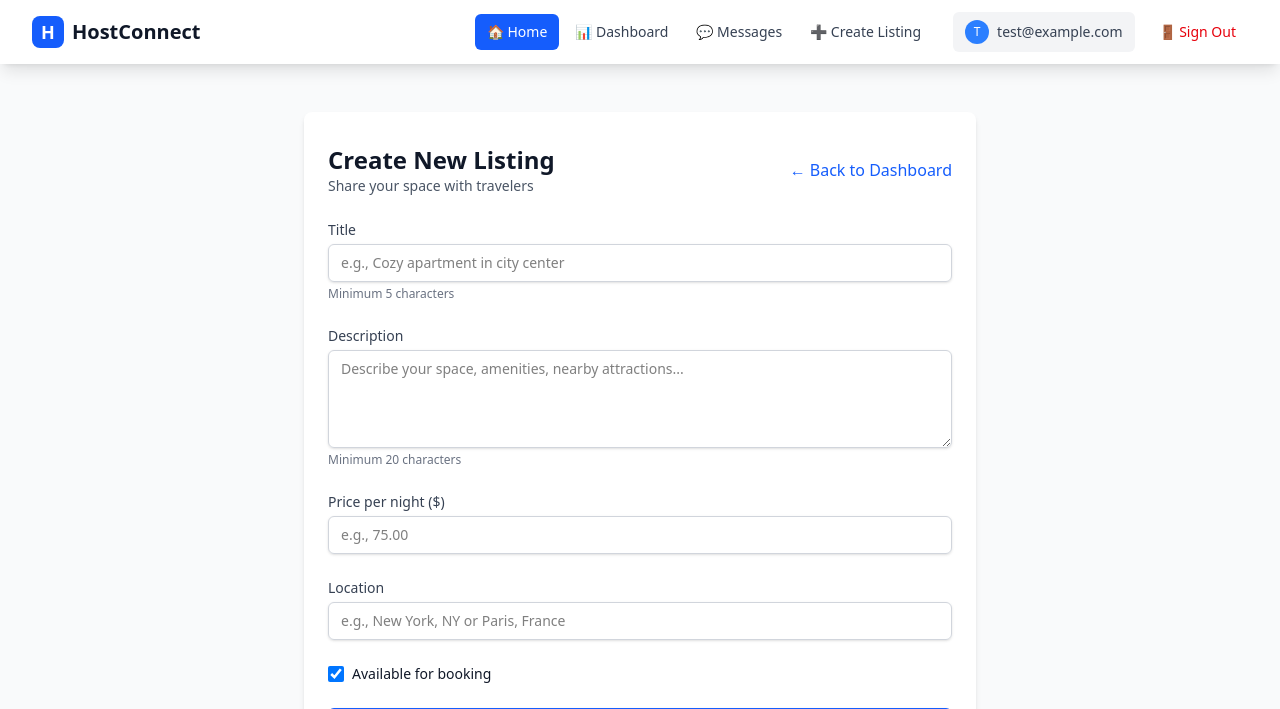
Scenario: CreateListing Form Validation › displays error message when listing creation fails
# Fill in valid form data
Type "Beautiful Apartment" into the field labelled "Title" at (640, 263), box [328, 244, 952, 282]
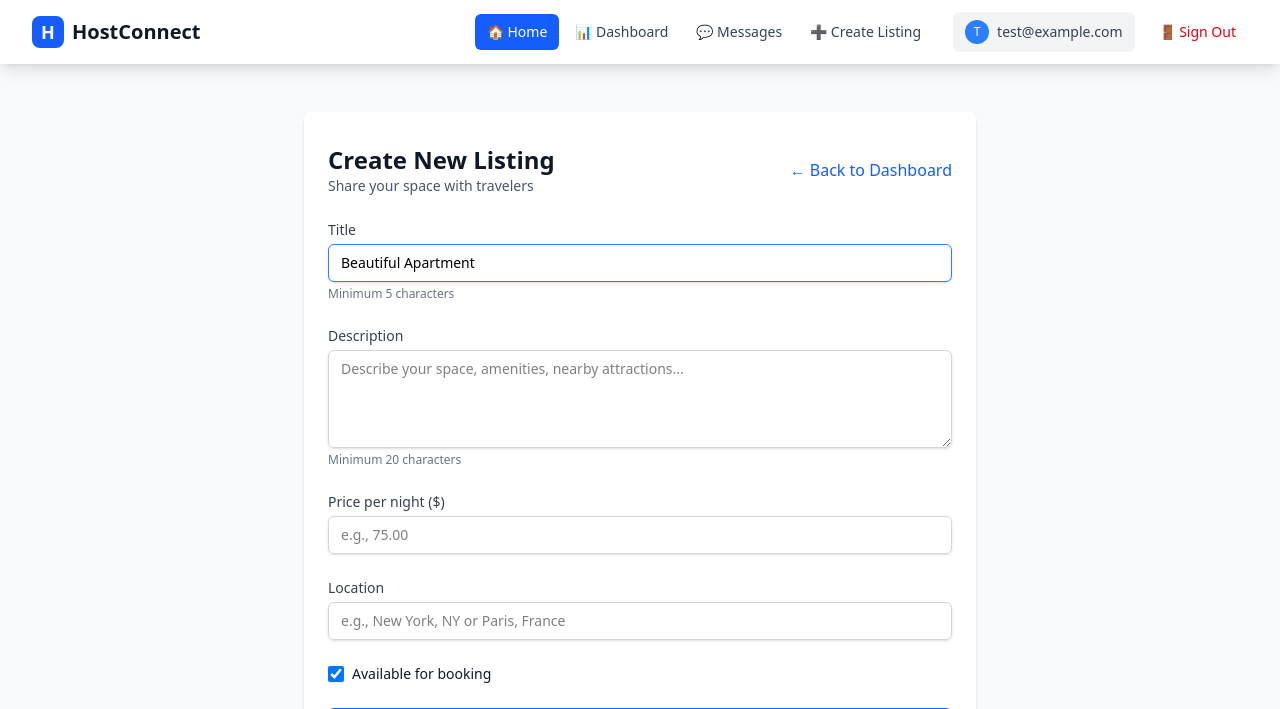
Type "This is a beautiful apartment with all amenities" into the text box labelled "Description" at (640, 399), box [328, 350, 952, 448]
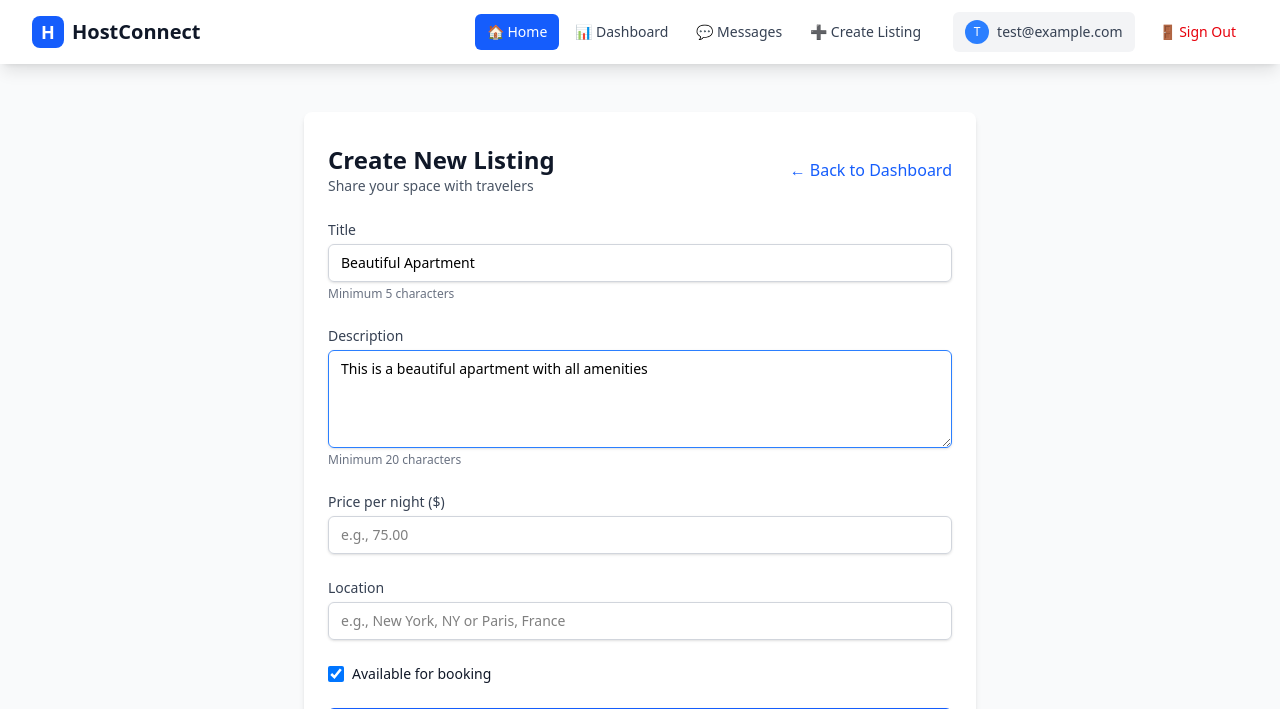
Type "New York, NY" into the field labelled "Location" at (640, 621), box [328, 602, 952, 640]
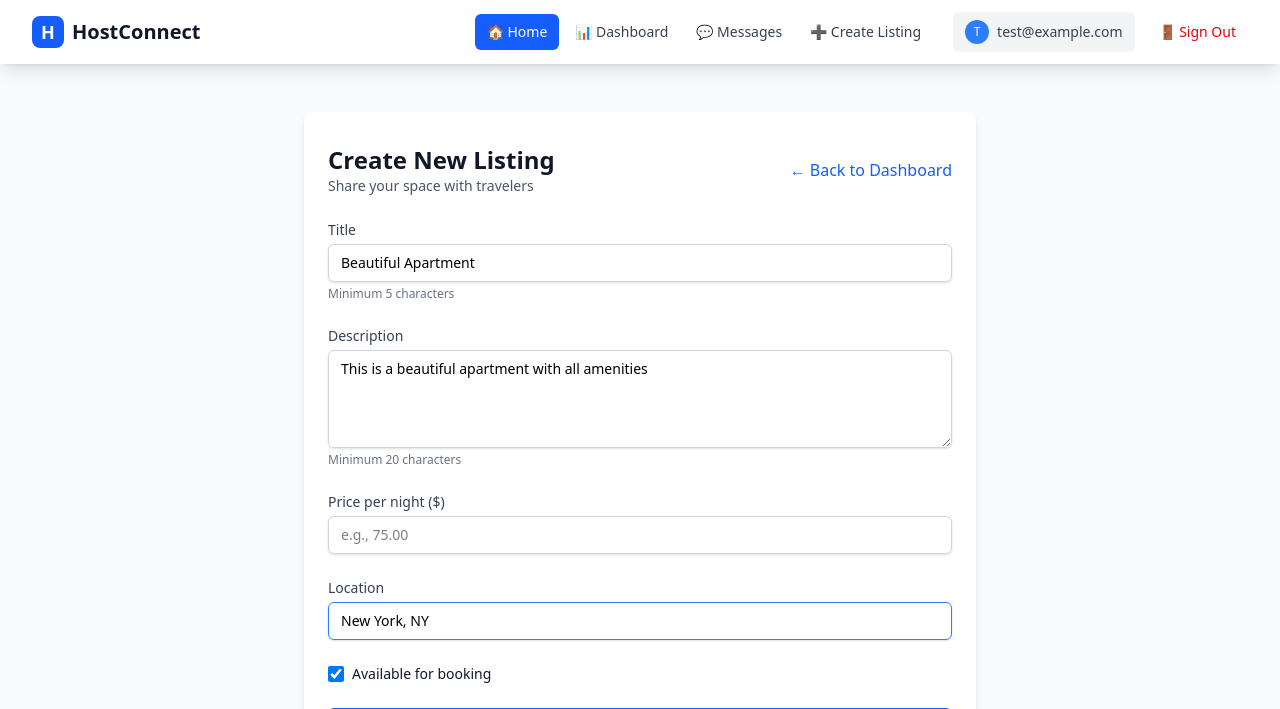
Type "150" into the number field labelled "Price per night ($)" at (640, 535), box [328, 516, 952, 554]
(page scrolled)
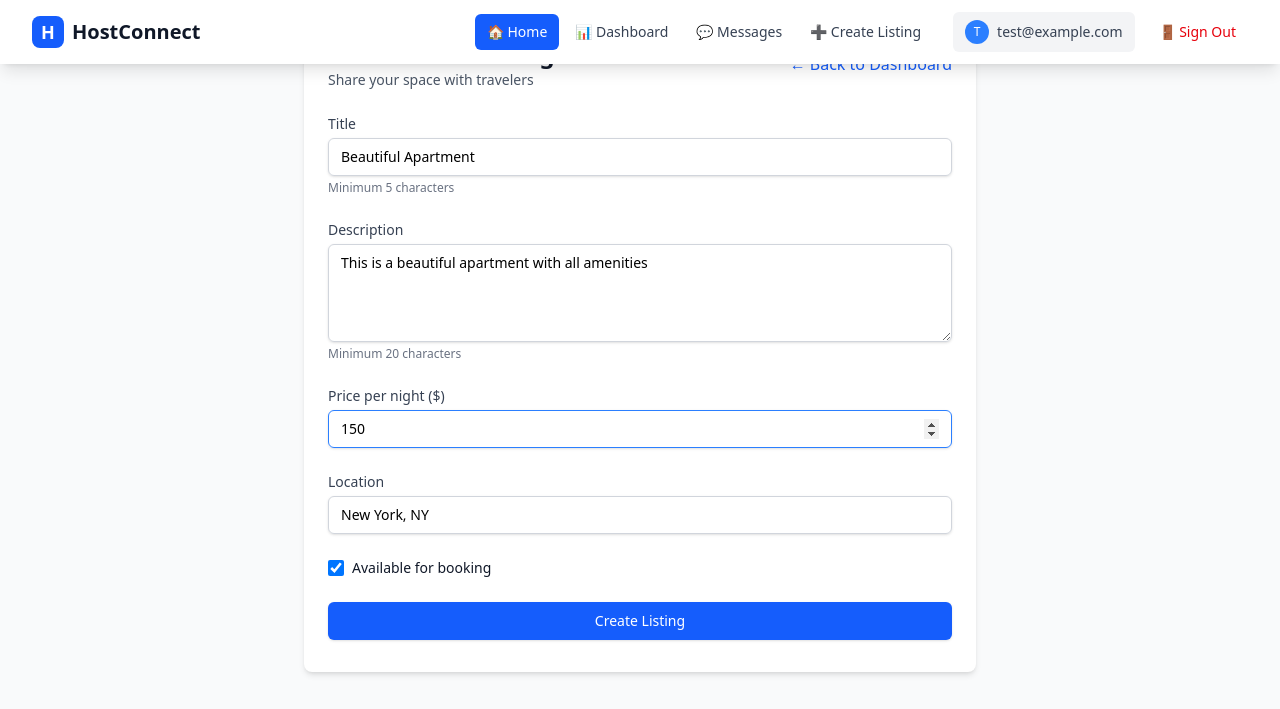
Click the button "Create Listing" at (640, 621), box [328, 602, 952, 640]
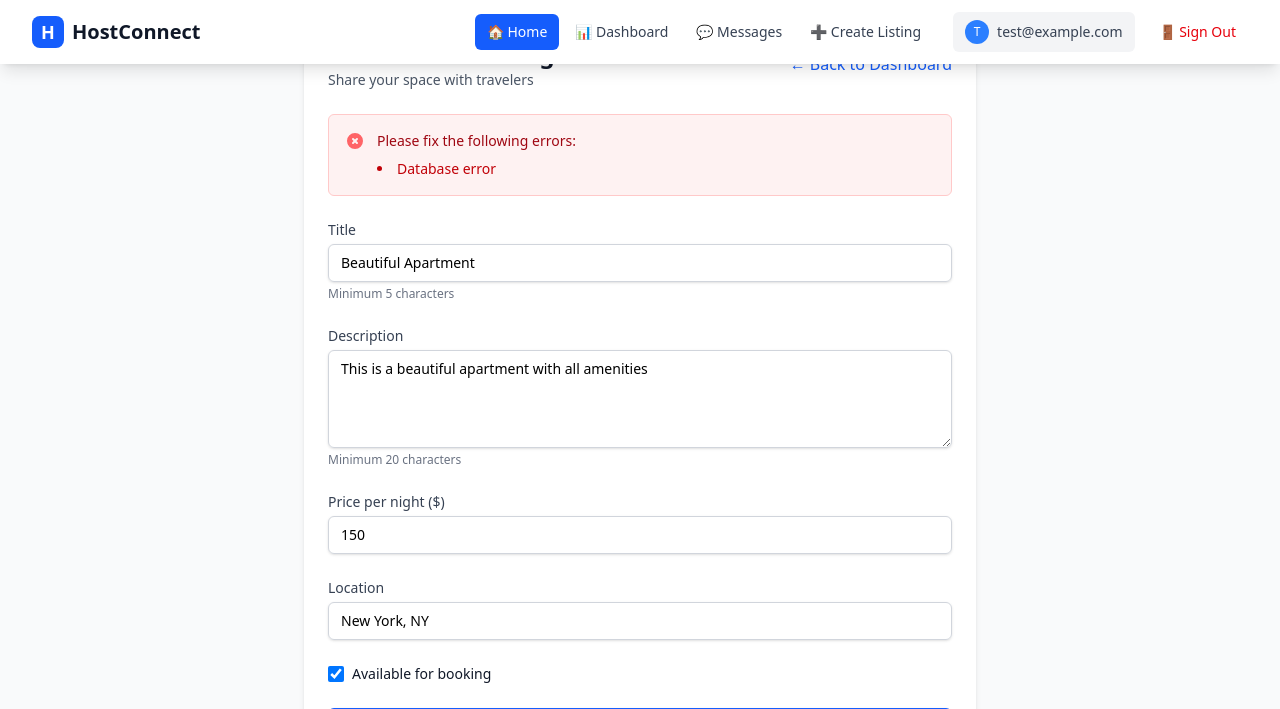
Expected: the list item "Database error" is shown, [397, 159, 496, 178]
